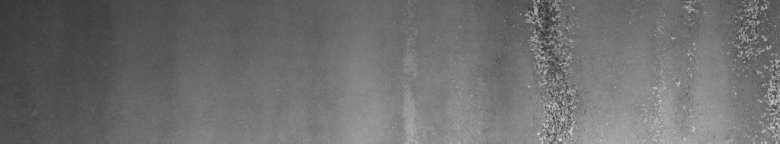hc: (520, 4, 583, 136)
